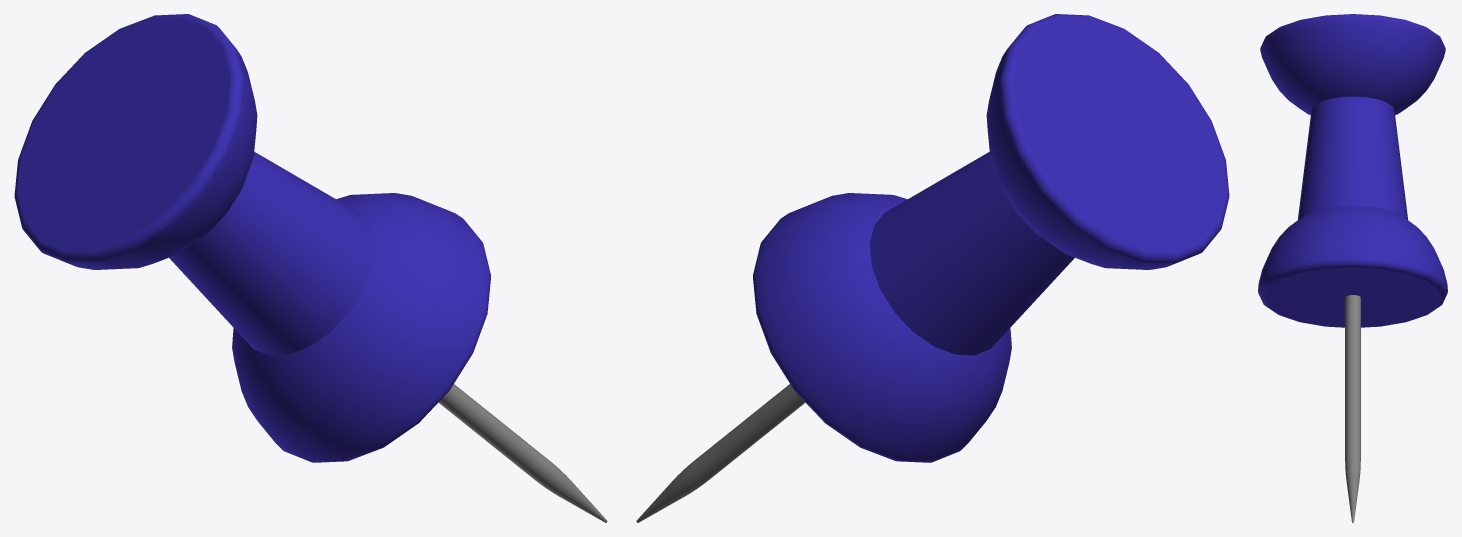
The model's file is lowpoly_push_pin.glb.
The picture shows the model from 3 angles, left to right: view 1: azimuth 30°, elevation 25°; view 2: azimuth 150°, elevation 25°; view 3: azimuth 270°, elevation 25°; orthographic projection. The views are drawn at different scales.
Visible parts, largest first — view 1: polySurface2, polySurface1; view 2: polySurface2, polySurface1; view 3: polySurface2, polySurface1.
Part boxes in pixels (<box>): polySurface2: <box>14,14,490,462</box>; polySurface1: <box>438,384,607,522</box>; polySurface2: <box>753,14,1229,462</box>; polySurface1: <box>636,384,805,522</box>; polySurface2: <box>1258,14,1447,327</box>; polySurface1: <box>1345,295,1360,522</box>.
Size of the model in its own units: 2.69 by 2.69 by 1.21.
